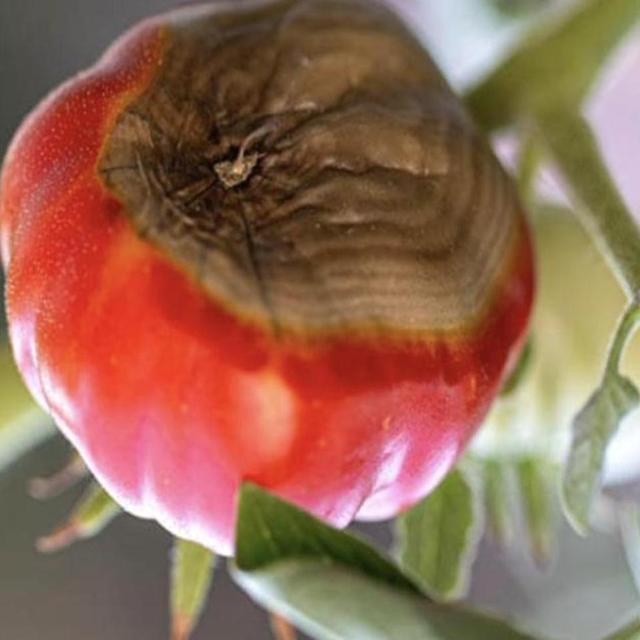Blossom End Rot Fruit: (66, 0, 346, 230)
